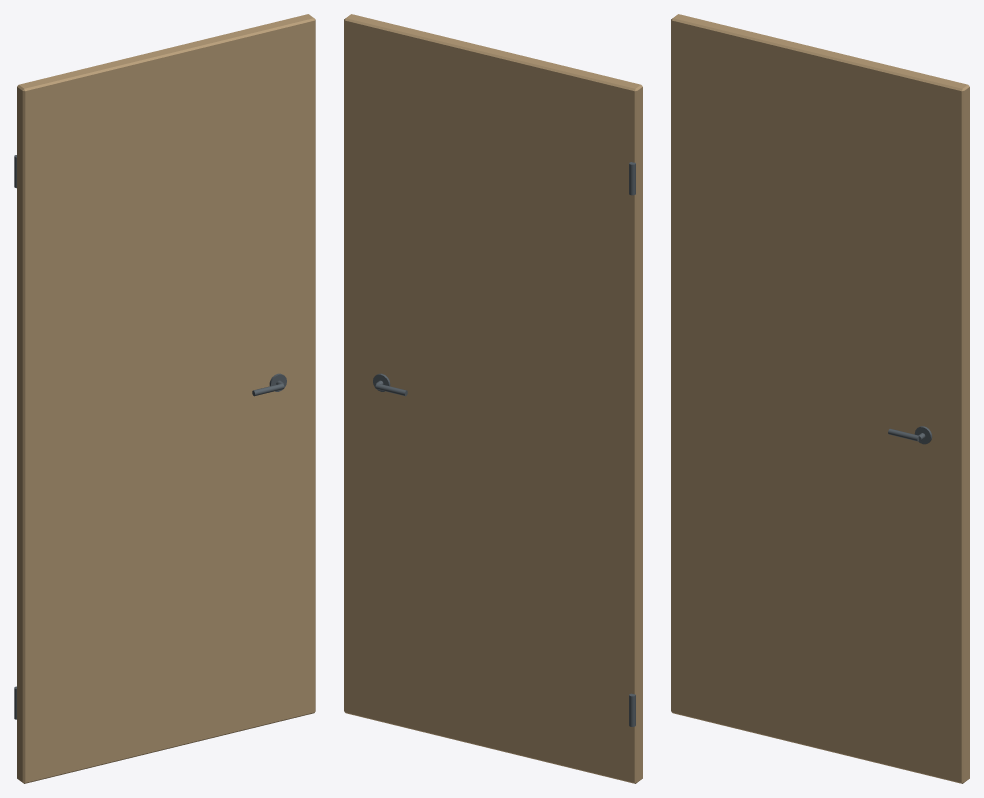
File: door_simple.glb
The picture shows the model from 3 angles, left to right: view 1: azimuth 30°, elevation 25°; view 2: azimuth 150°, elevation 25°; view 3: azimuth 330°, elevation 25°; orthographic projection.
Visible parts, largest first — view 1: door_simple; view 2: door_simple; view 3: door_simple.
Part boxes in pixels (x1=…): door_simple: x1=14, y1=14, x2=315, y2=783; door_simple: x1=344, y1=14, x2=642, y2=783; door_simple: x1=671, y1=14, x2=969, y2=783.
Bounding box in the file's own units: 0.901 × 2.04 × 0.1118.
